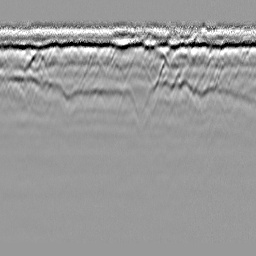cavity: (116, 82, 140, 126)
